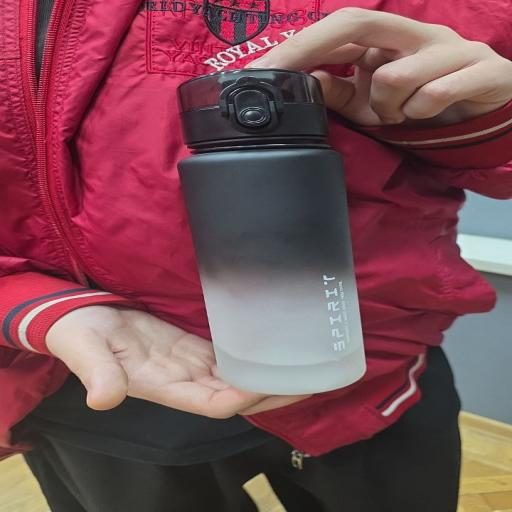bench: (177, 68, 366, 395)
